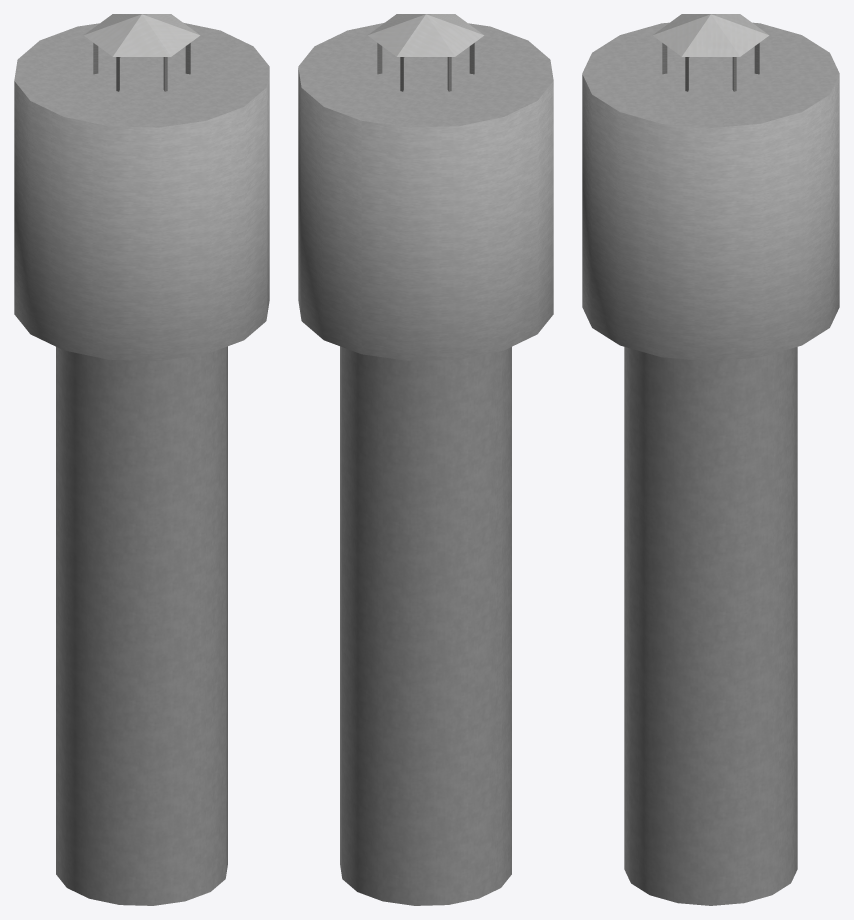
Rendered from water-tower-concrete-37x11-cbj_LOD02.gltf.
3 views of the same model, side by side, from view 1: azimuth 30°, elevation 25°; view 2: azimuth 150°, elevation 25°; view 3: azimuth 270°, elevation 25° (orthographic).
Parts seen in each view (by area): view 1: Cylinder02; view 2: Cylinder02; view 3: Cylinder02.
Part boxes in pixels (x1,y1,x2,y2): Cylinder02: (14, 14, 269, 905); Cylinder02: (298, 14, 553, 905); Cylinder02: (582, 14, 839, 905).
Size of the model in its own units: 11 by 40.3 by 11.
